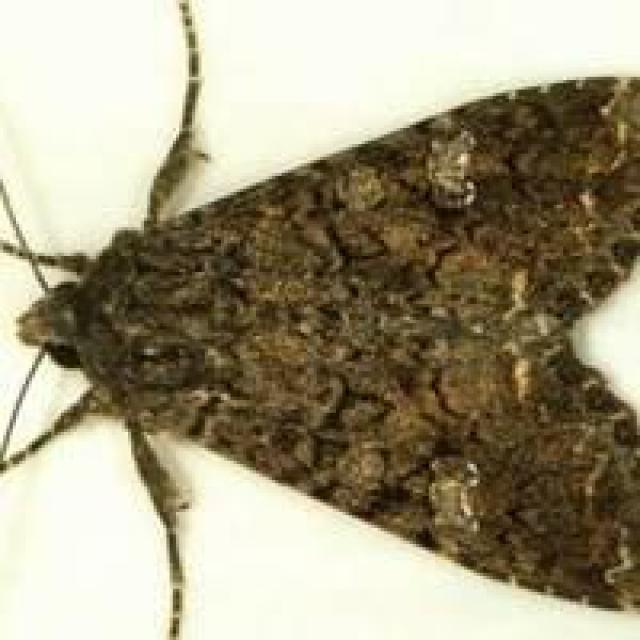armyworm: (4, 1, 638, 619)
